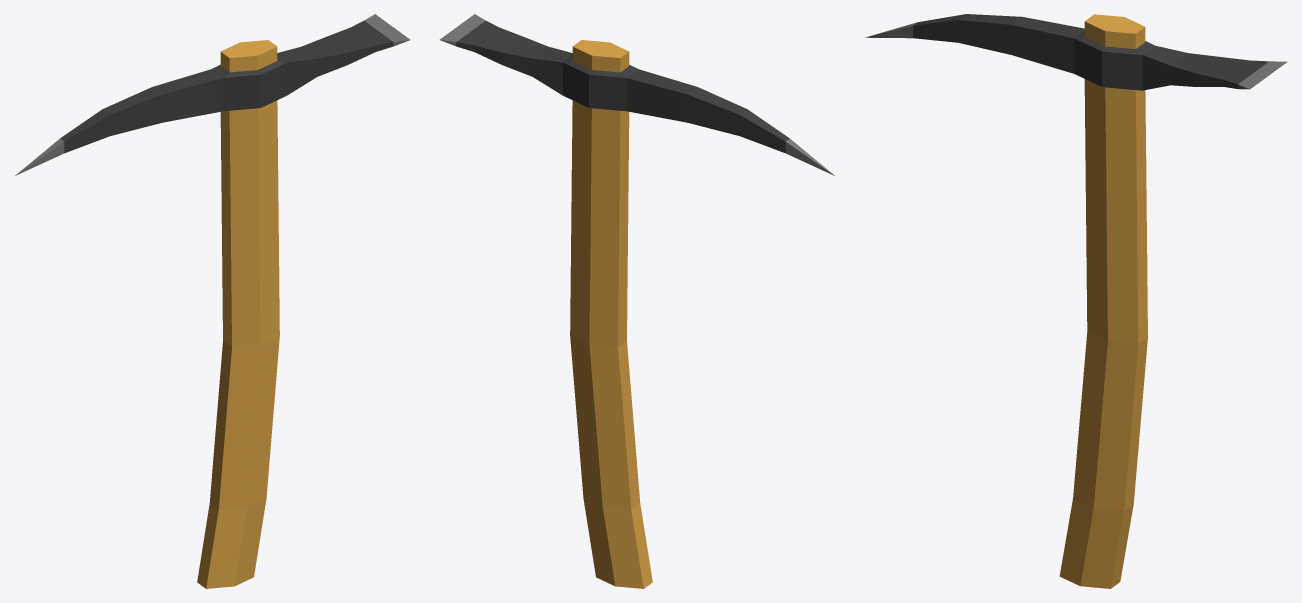
Rendered from Pickaxe.fbx.
3 views of the same model, side by side, from view 1: azimuth 30°, elevation 25°; view 2: azimuth 150°, elevation 25°; view 3: azimuth 330°, elevation 25° (orthographic). The views are drawn at different scales.
Visible parts, largest first — view 1: Pickaxe; view 2: Pickaxe; view 3: Pickaxe.
Part boxes in pixels (box(x1,y1,x2,y2)): Pickaxe: box(15, 14, 410, 588); Pickaxe: box(439, 14, 834, 588); Pickaxe: box(865, 14, 1287, 588).
Bounding box in the file's own units: 0.076 × 0.4682 × 0.6201.
